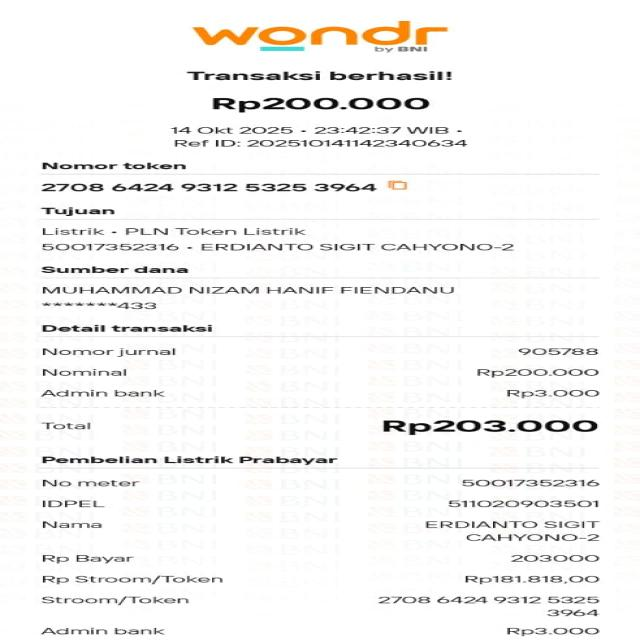date: (166, 122, 475, 136)
store: (172, 19, 464, 57)
total: (32, 416, 614, 438)
